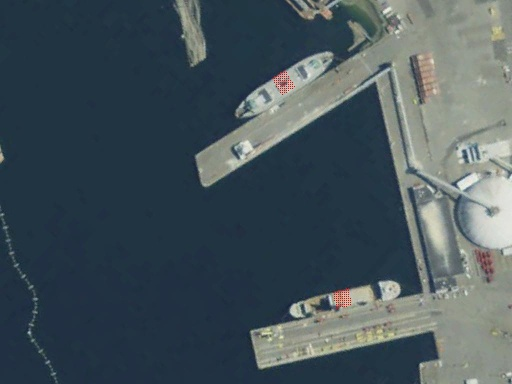ship: (229, 41, 340, 127), (285, 275, 404, 324)
